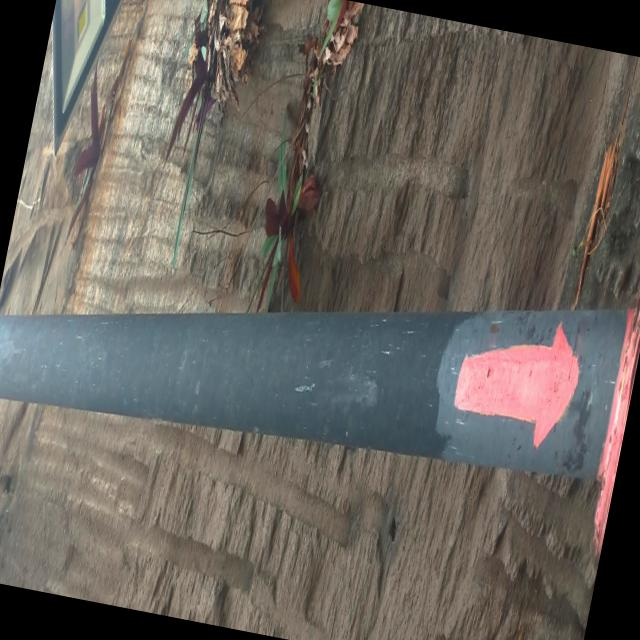gas: (0, 97, 640, 606)
